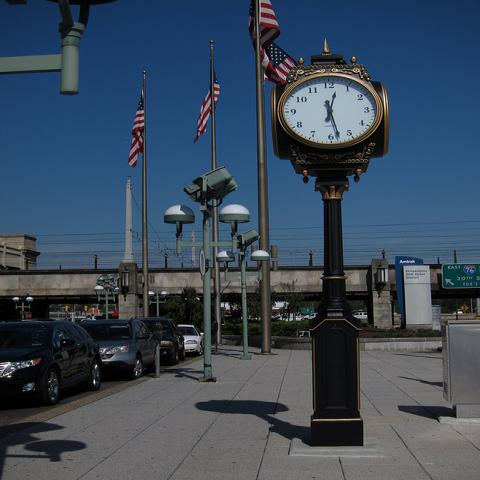car: (1, 321, 104, 404), (76, 319, 160, 379), (132, 317, 184, 360), (179, 324, 205, 352), (351, 312, 368, 319), (302, 314, 318, 320), (272, 314, 287, 318)
